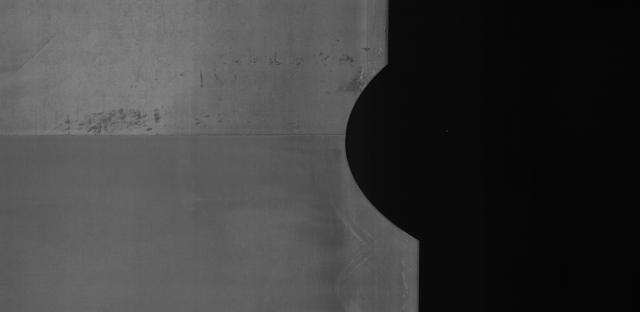crescent_gap: (334, 56, 432, 249)
welding_line: (1, 124, 347, 145)
